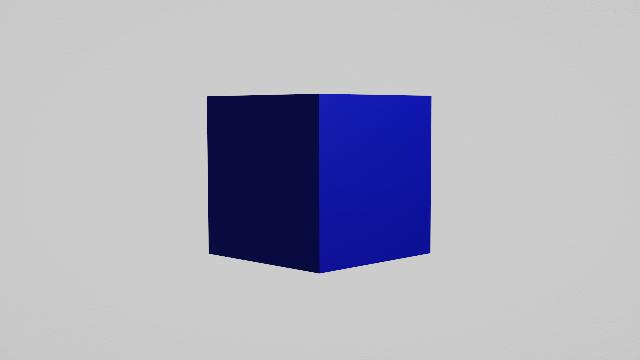Cube: (202, 91, 434, 278)
